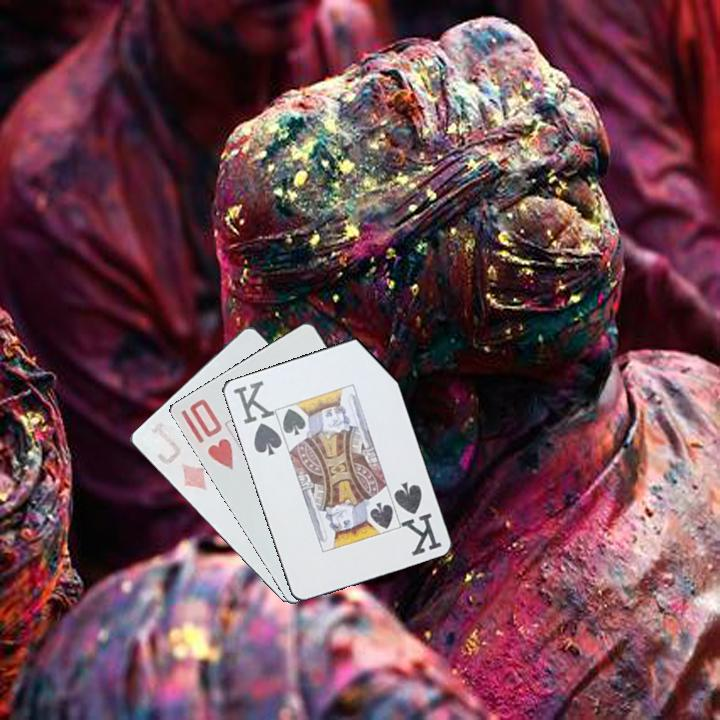Jd: (144, 418, 210, 493)
Ks: (229, 377, 284, 459), (390, 478, 444, 558)
Th: (186, 395, 236, 473)
